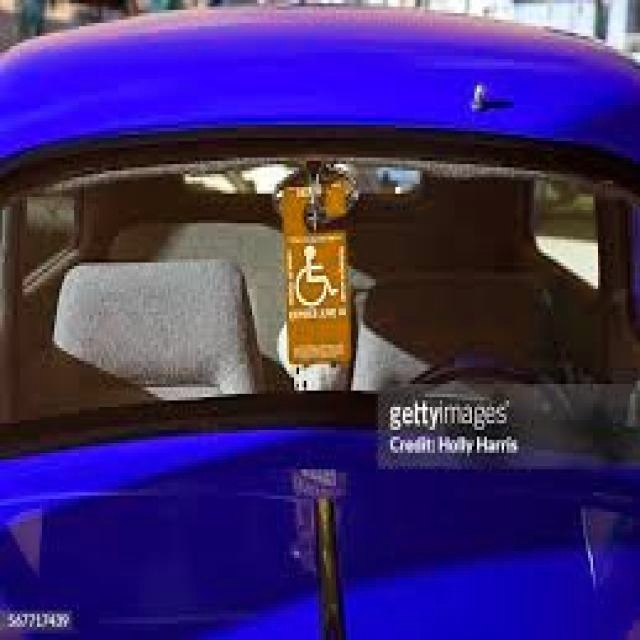ISA: (296, 247, 334, 305)
